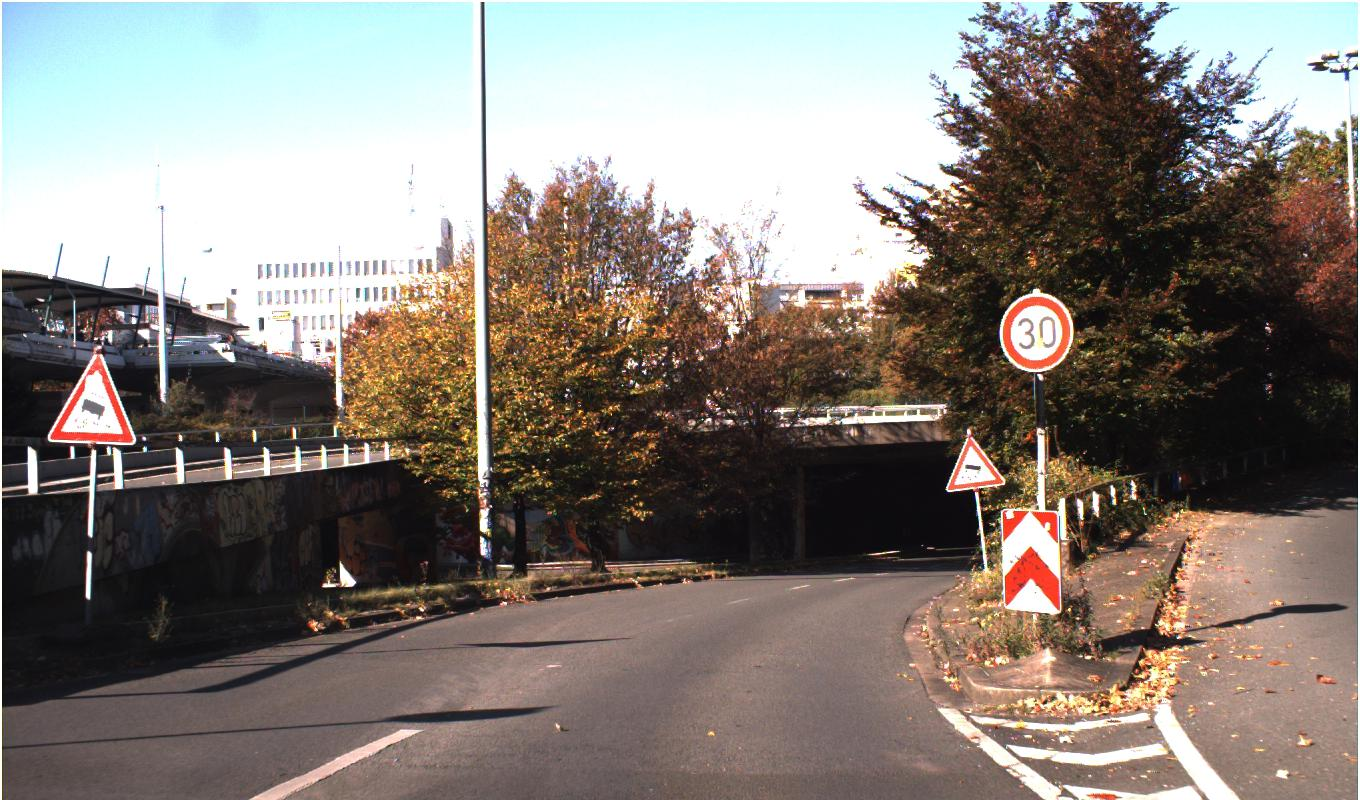danger: (46, 350, 136, 444), (945, 435, 1006, 492)
prohibitory: (998, 292, 1074, 371)
